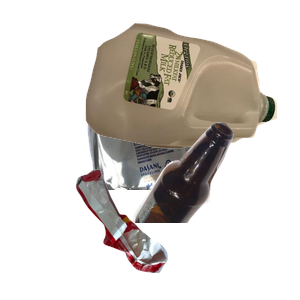glass: (130, 120, 300, 300)
metal: (85, 48, 300, 228)
plastic: (83, 21, 300, 162)
trash: (74, 167, 235, 300)
